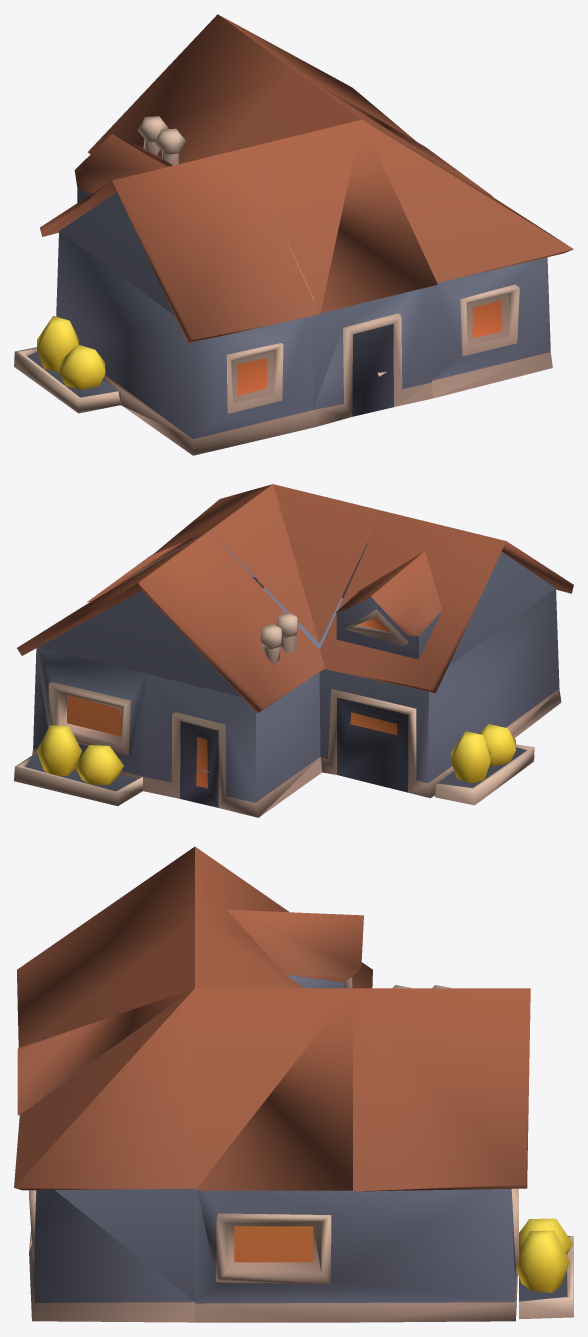
The model's file is casa_m.fbx.
3 views of the same model, one above another, from view 1: azimuth 30°, elevation 25°; view 2: azimuth 150°, elevation 25°; view 3: azimuth 270°, elevation 25° (orthographic). The views are drawn at different scales.
Parts seen in each view (by area): view 1: casa_m; view 2: casa_m; view 3: casa_m.
Boxes of the visible parts, <box> form: casa_m: <box>14,14,573,455</box>; casa_m: <box>14,484,573,817</box>; casa_m: <box>14,846,573,1322</box>.
Size of the model in its own units: 1.42 by 0.7375 by 1.42.
